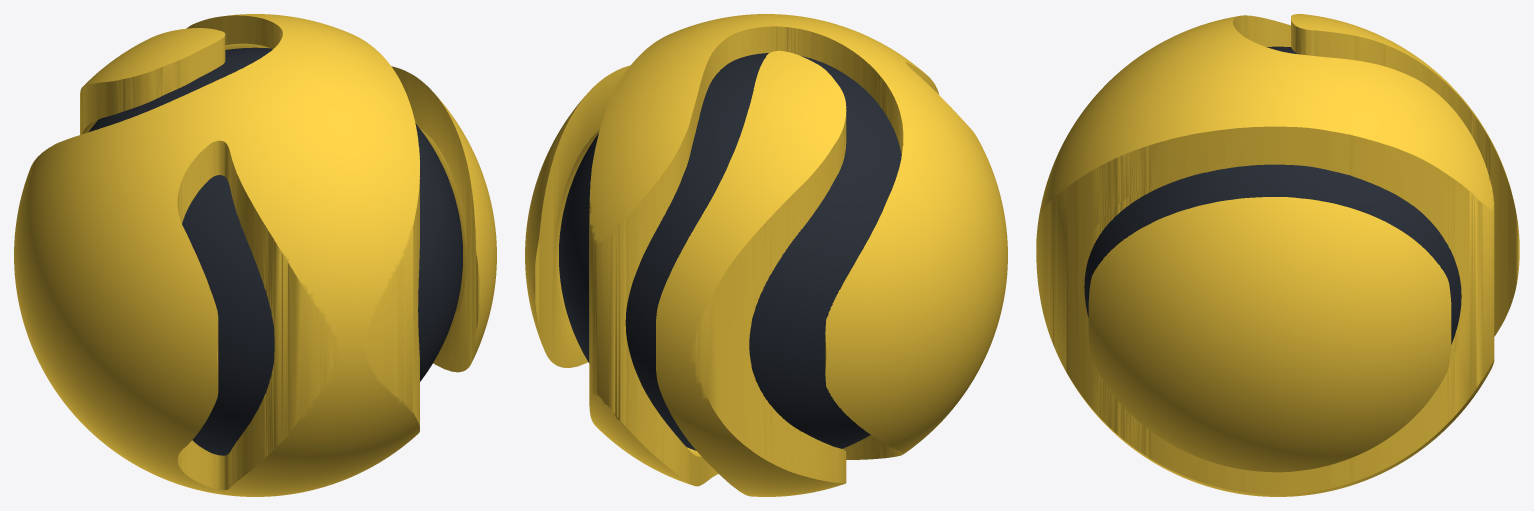
The model's file is sinhala_kw_globe_orb.glb.
3 renders of one model, left to right at view 1: azimuth 30°, elevation 25°; view 2: azimuth 150°, elevation 25°; view 3: azimuth 270°, elevation 25°, orthographic.
Visible parts, largest first — view 1: SinhalaKW_Globe_Shell, Obsidian_Core; view 2: SinhalaKW_Globe_Shell, Obsidian_Core; view 3: SinhalaKW_Globe_Shell, Obsidian_Core.
Boxes of the visible parts, x1=… form: SinhalaKW_Globe_Shell: x1=14, y1=14, x2=496, y2=496; Obsidian_Core: x1=88, y1=47, x2=462, y2=455; SinhalaKW_Globe_Shell: x1=525, y1=14, x2=1007, y2=496; Obsidian_Core: x1=559, y1=53, x2=901, y2=450; SinhalaKW_Globe_Shell: x1=1036, y1=14, x2=1519, y2=496; Obsidian_Core: x1=1084, y1=46, x2=1461, y2=344.
Size of the model in its own units: 2 by 1.99 by 2.
